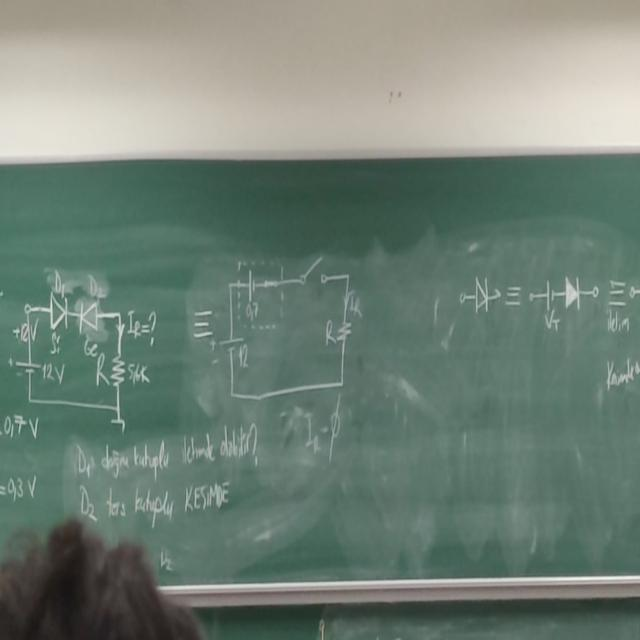image: (221, 242, 374, 414), (12, 272, 154, 430), (457, 274, 639, 393)
math: (1, 412, 42, 441), (0, 474, 39, 504)
text: (72, 430, 272, 532)
